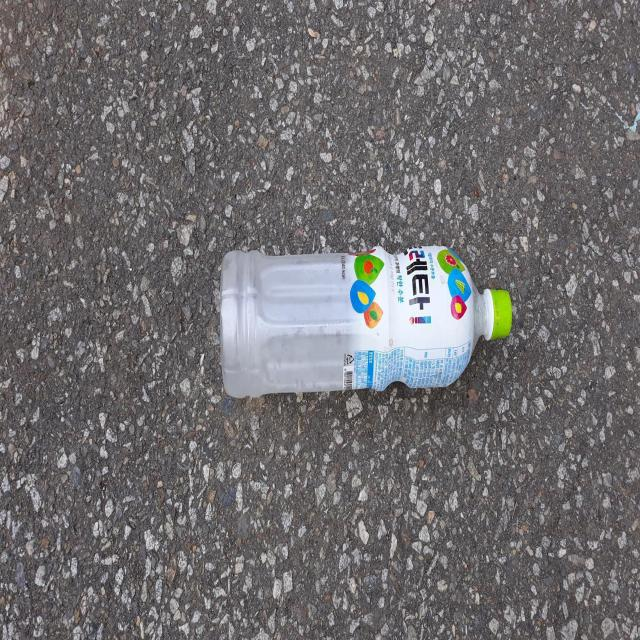plastic: (220, 245, 513, 397)
